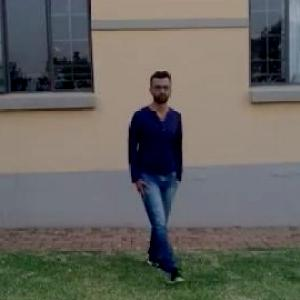follow: (126, 71, 184, 269)
